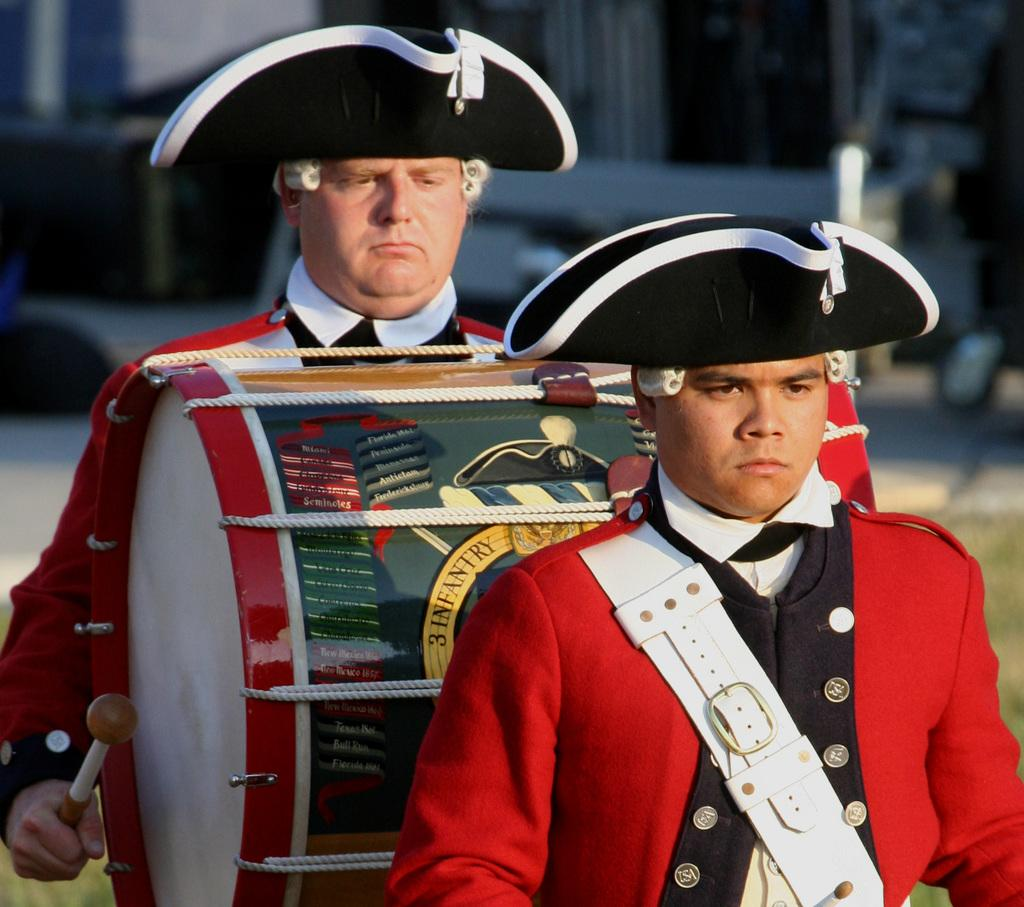Hat: (502, 214, 940, 363), (152, 24, 572, 171)
